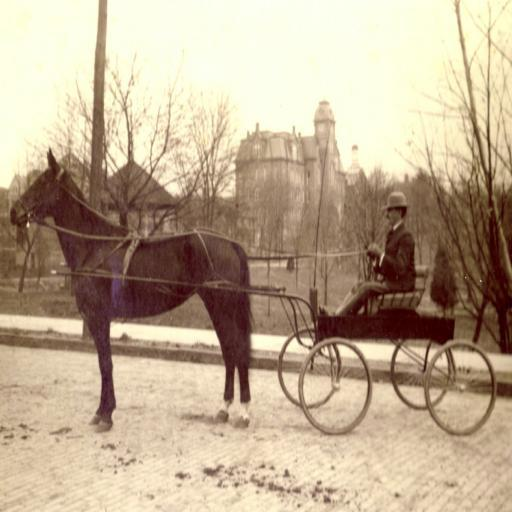horse: (6, 144, 252, 430)
